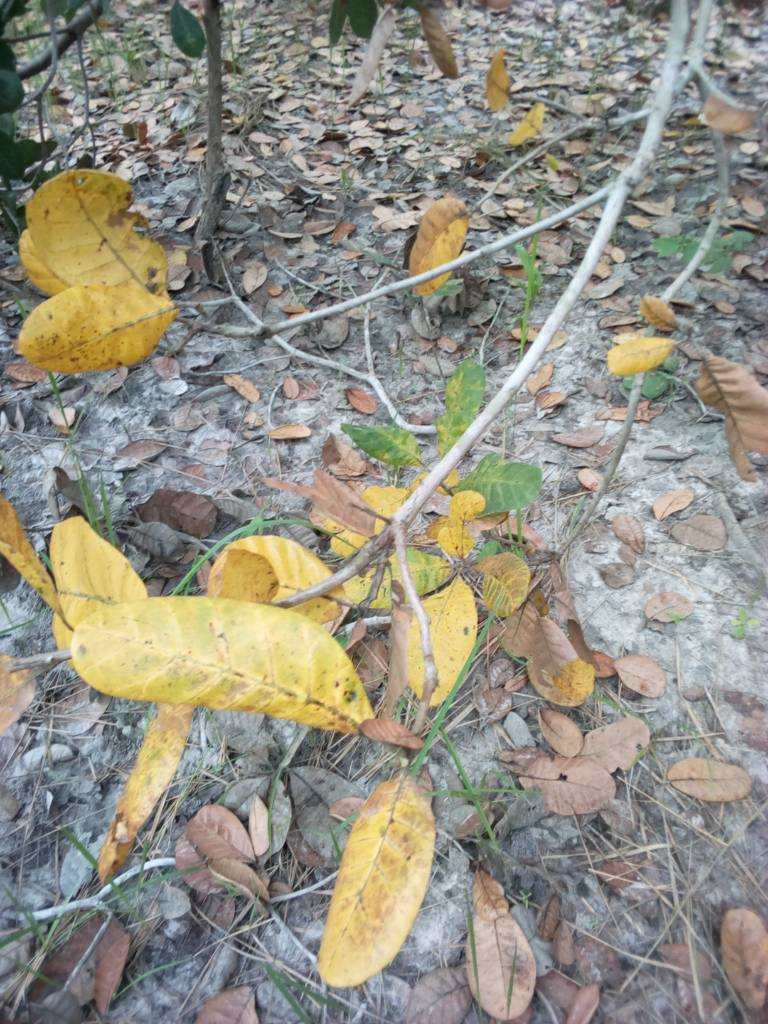Anthracnose: (65, 592, 375, 735), (310, 771, 435, 989), (25, 166, 172, 299), (8, 280, 175, 372)
